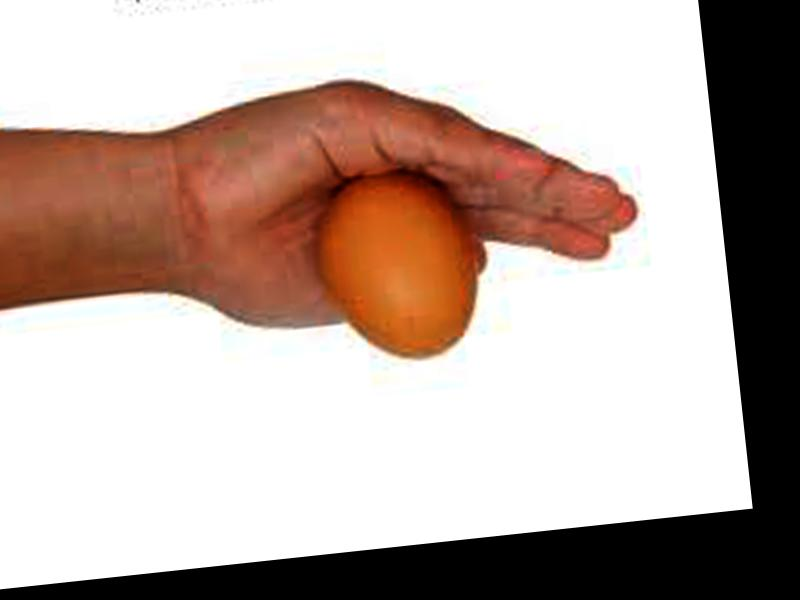Eggs: (310, 161, 484, 369)
